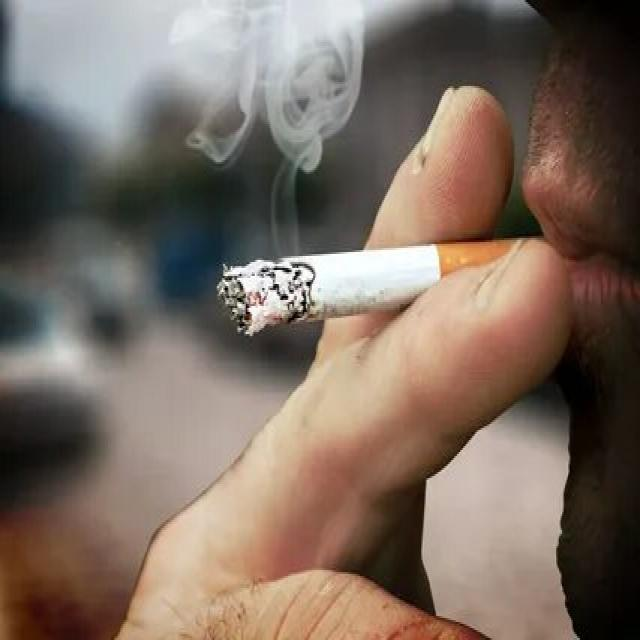smoke: (213, 224, 554, 342)
